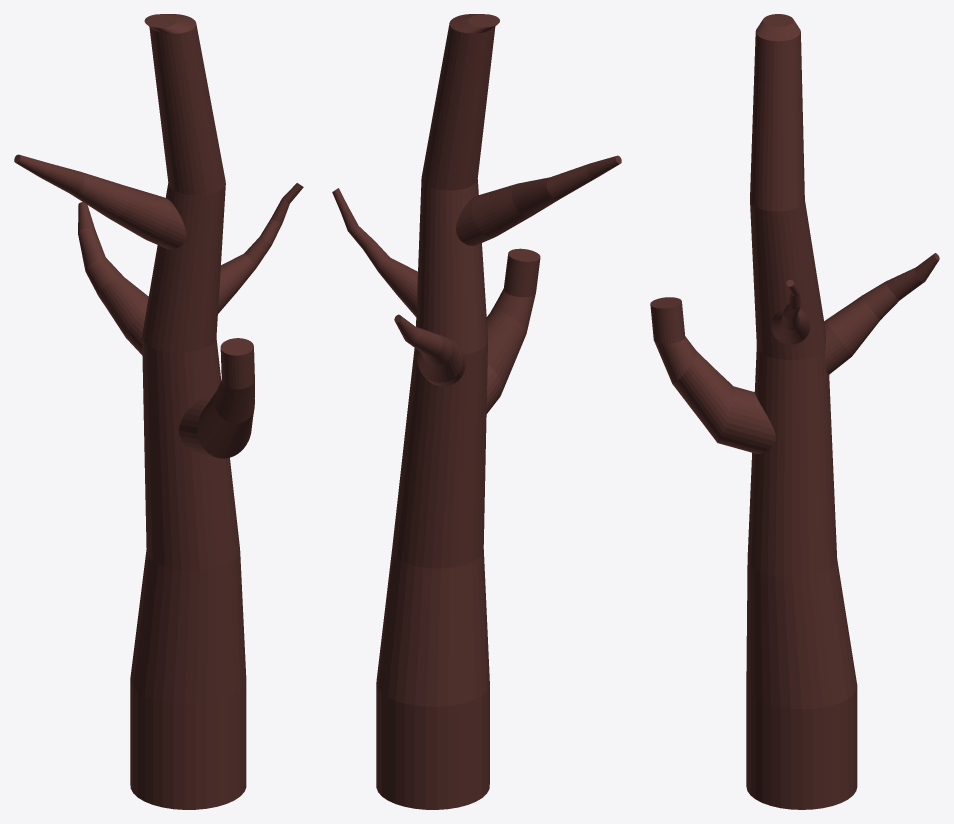
The model's file is Night Tree 2.fbx.
The picture shows the model from 3 angles, left to right: view 1: azimuth 30°, elevation 25°; view 2: azimuth 150°, elevation 25°; view 3: azimuth 270°, elevation 25°; orthographic projection. The views are drawn at different scales.
Visible parts, largest first — view 1: Big Tree, Cylinder.001; view 2: Big Tree, Cylinder.001; view 3: Big Tree, Cylinder.001.
Part boxes in pixels (x1=…): Big Tree: x1=14, y1=14, x2=303, y2=809; Cylinder.001: x1=179, y1=338, x2=254, y2=458; Big Tree: x1=332, y1=14, x2=621, y2=809; Cylinder.001: x1=486, y1=248, x2=540, y2=413; Big Tree: x1=746, y1=14, x2=939, y2=809; Cylinder.001: x1=650, y1=297, x2=775, y2=453.
Bounding box in the file's own units: 578 × 1485 × 521.
